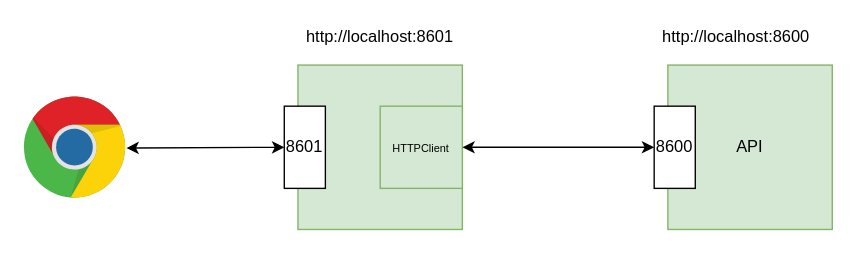
Image size: 856x253. Some labels were removed from this diagram. The shapes that lost their labels are listed below. From the top down, each one's box as (x1, y1, x2, y2) in pixels, then its label:
(23, 95, 126, 200): Browser
(297, 64, 462, 229): Router
